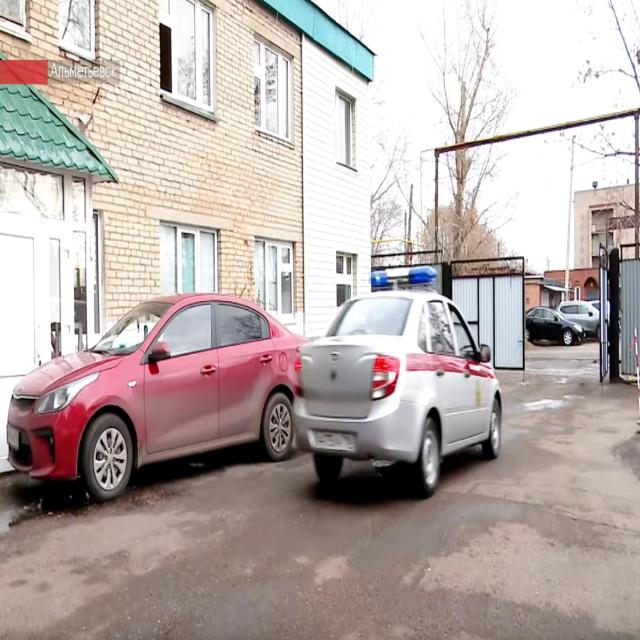non emergency car: (7, 293, 312, 500), (527, 305, 587, 351), (555, 300, 603, 344)
police car: (296, 268, 504, 497)
